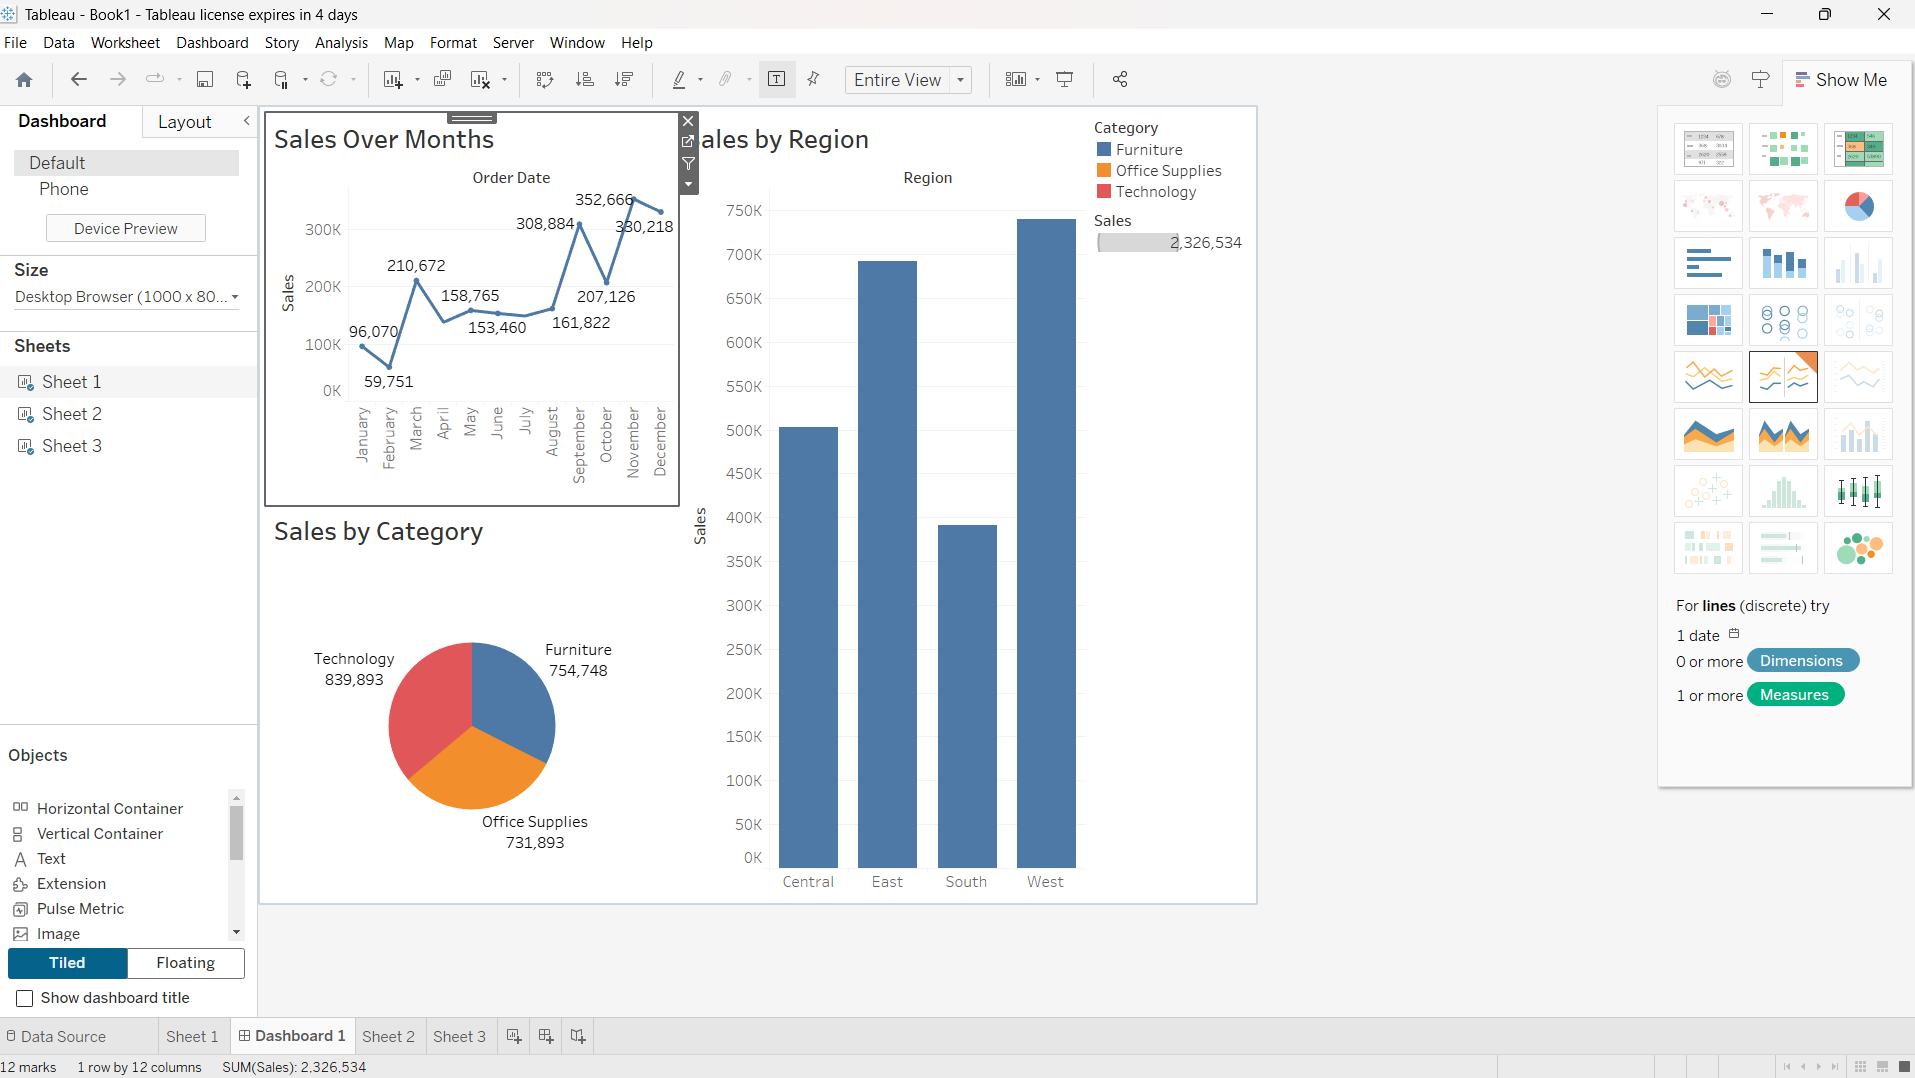

Layout of this report page (visuals, bound fields, positions):
{"tool":"tableau","page":{"name":"Dashboard 1","canvas":[1000,800],"ordinal":0},"visuals":[{"type":"worksheet","title":"Sheet 1","mark":"Automatic","rows":["Sales"],"cols":["Order Date"],"box":[8,8,412,392]},{"type":"worksheet","title":"Sheet 2","mark":"Automatic","rows":["Sales"],"cols":["Region"],"box":[420,8,412,784]},{"type":"legend","title":"Sheet 3","param":"[federated.1kedipn1g8tfdd1c6ntmo0xrnren].[none:Category:nk]","box":[832,8,160,93]},{"type":"legend","title":"Sheet 3","param":"[federated.1kedipn1g8tfdd1c6ntmo0xrnren].[sum:Sales:qk]","box":[832,101,160,51]},{"type":"worksheet","title":"Sheet 3","mark":"Pie","box":[8,400,412,392]}]}

Visuals, with their boxes on the page's 1000x800 design canvas (x1, y1, x2, y2). These are canvas units, not pixel positions in the 1915x1078 screenshot, which may show the page scaled, cropped or inside an application window:
"Sheet 1" worksheet: <box>8,8,420,400</box>
"Sheet 2" worksheet: <box>420,8,832,792</box>
"Sheet 3" legend: <box>832,8,992,101</box>
"Sheet 3" legend: <box>832,101,992,152</box>
"Sheet 3" worksheet (Pie marks): <box>8,400,420,792</box>
